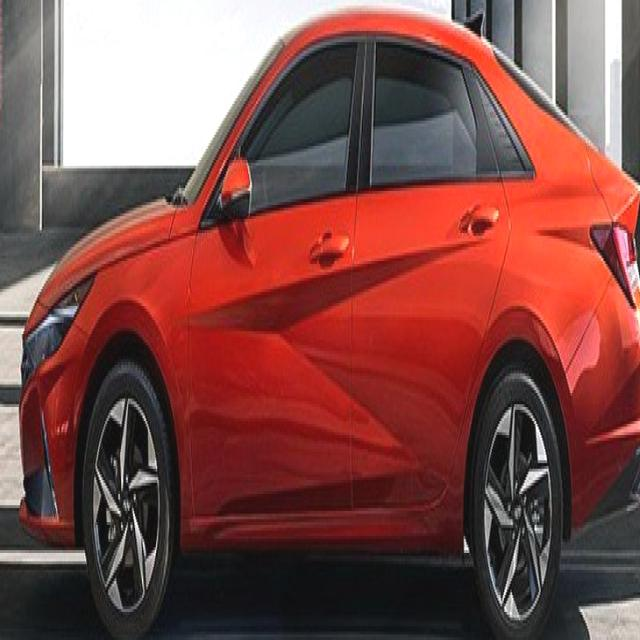red: (19, 12, 638, 615)
